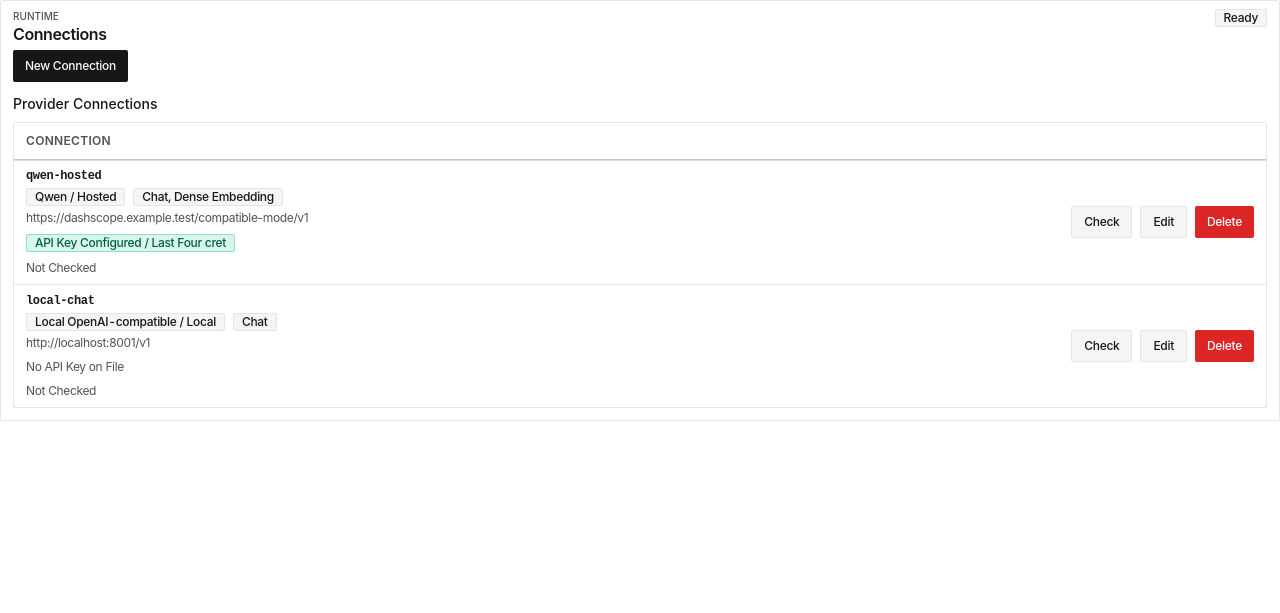
Test: RuntimeSettingsPanel › enables delete confirmation only for the exact connection id
This screenshot has width=1280, height=613.
Click the button with aria-label "Delete qwen-hosted Connection" at (1224, 222), box [1195, 206, 1254, 238]
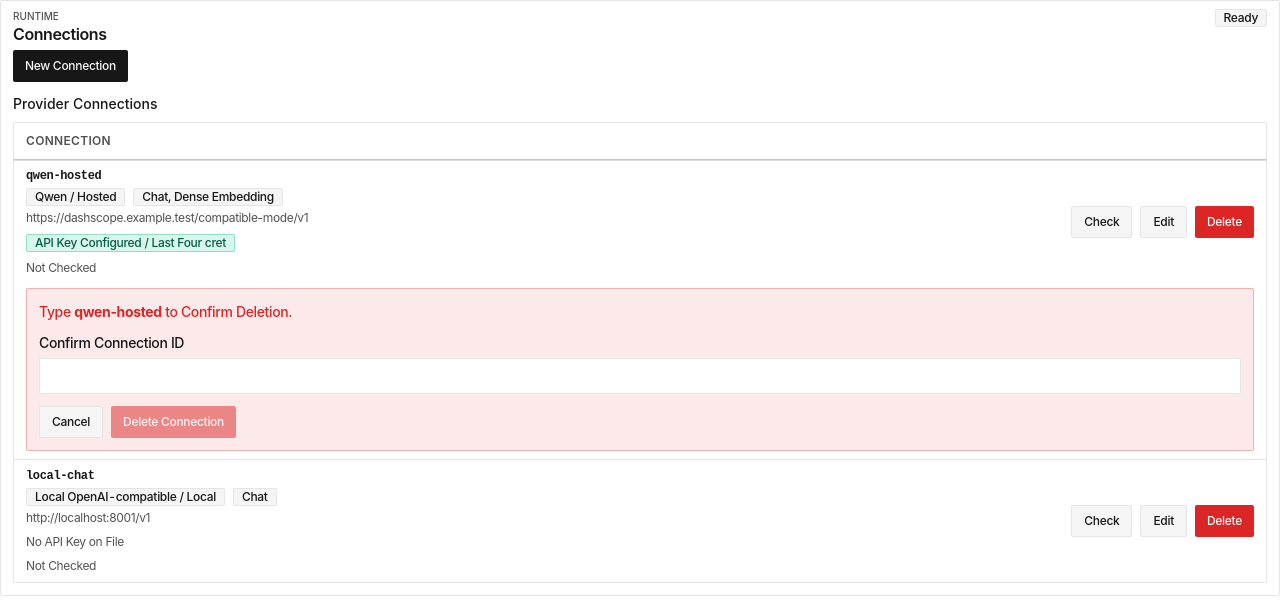
Result: the button "Delete Connection" is disabled at [111, 406, 236, 438]
Type "wrong-id" into the field labelled "Confirm Connection ID" at (640, 376), box [39, 358, 1241, 394]
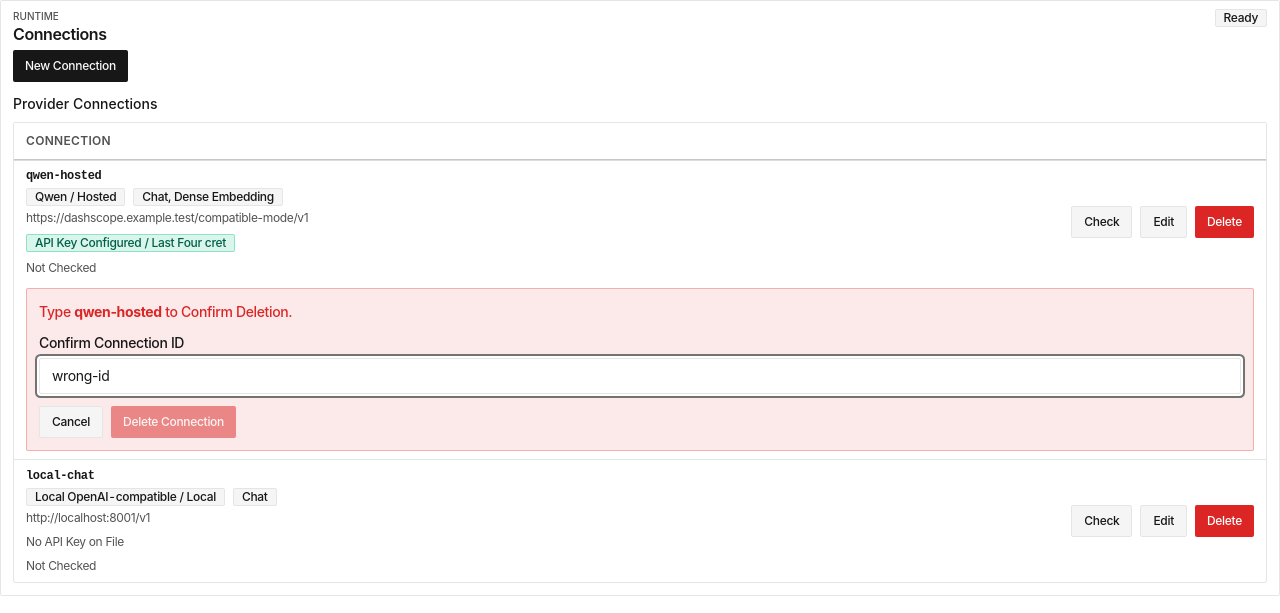
Result: the button "Delete Connection" is disabled at [111, 406, 236, 438]
Replace the text in the field labelled "Confirm Connection ID" with "qwen-hosted" at (640, 376), box [39, 358, 1241, 394]
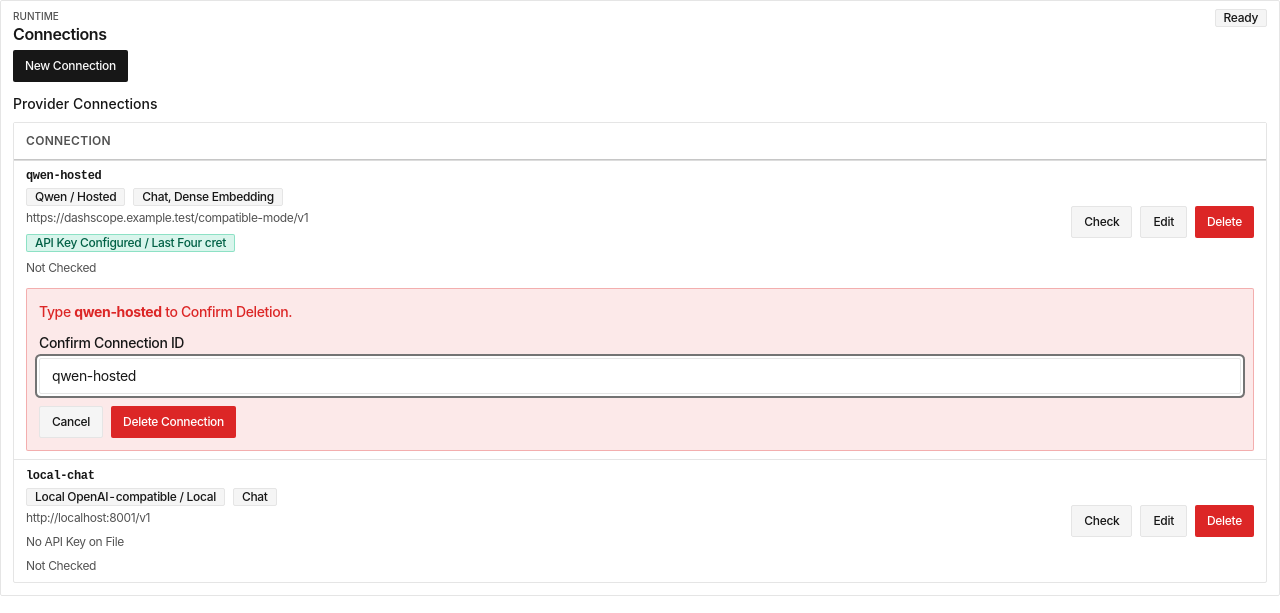
Result: the button "Delete Connection" is enabled at [111, 406, 236, 438]
